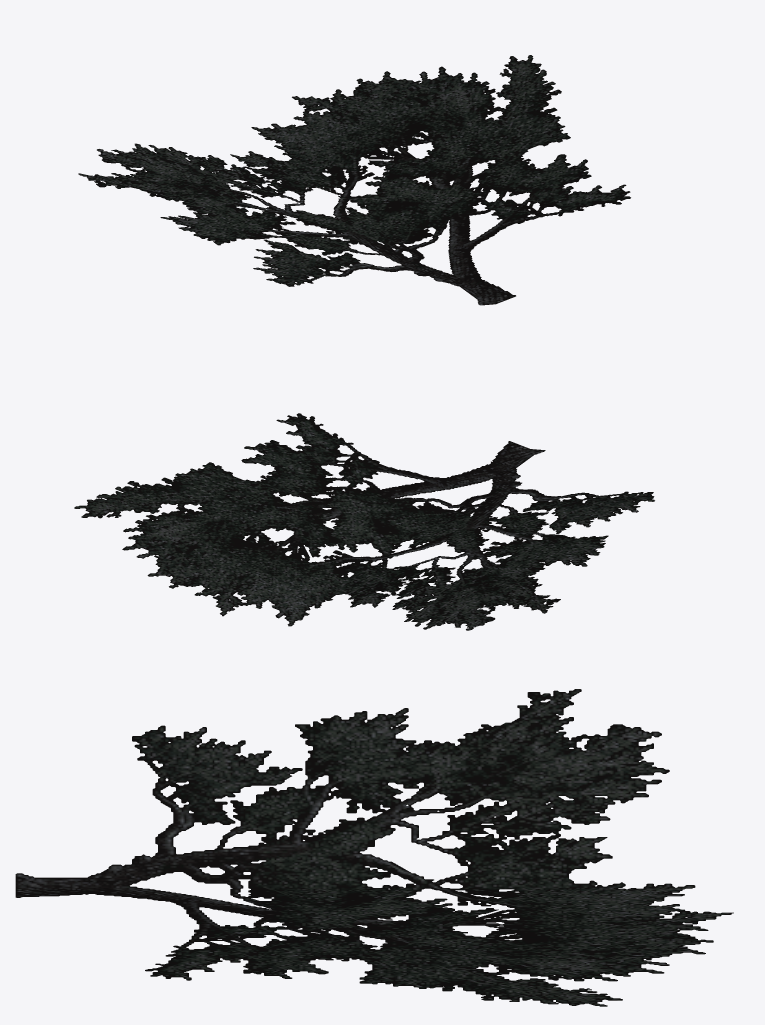
The model's file is SM_EC_Tree_Card_Bent_09.fbx.
3 views of the same model, one above another, from view 1: azimuth 30°, elevation 25°; view 2: azimuth 150°, elevation 25°; view 3: azimuth 270°, elevation 25° (orthographic). The views are drawn at different scales.
Visible parts, largest first — view 1: SM_EC_Tree_Card_Bent_09; view 2: SM_EC_Tree_Card_Bent_09; view 3: SM_EC_Tree_Card_Bent_09.
Boxes of the visible parts, x1=… form: SM_EC_Tree_Card_Bent_09: x1=78, y1=55, x2=630, y2=305; SM_EC_Tree_Card_Bent_09: x1=74, y1=413, x2=654, y2=630; SM_EC_Tree_Card_Bent_09: x1=15, y1=689, x2=733, y2=1006.
Size of the model in its own units: 4.65 by 4.46 by 0.3409.
